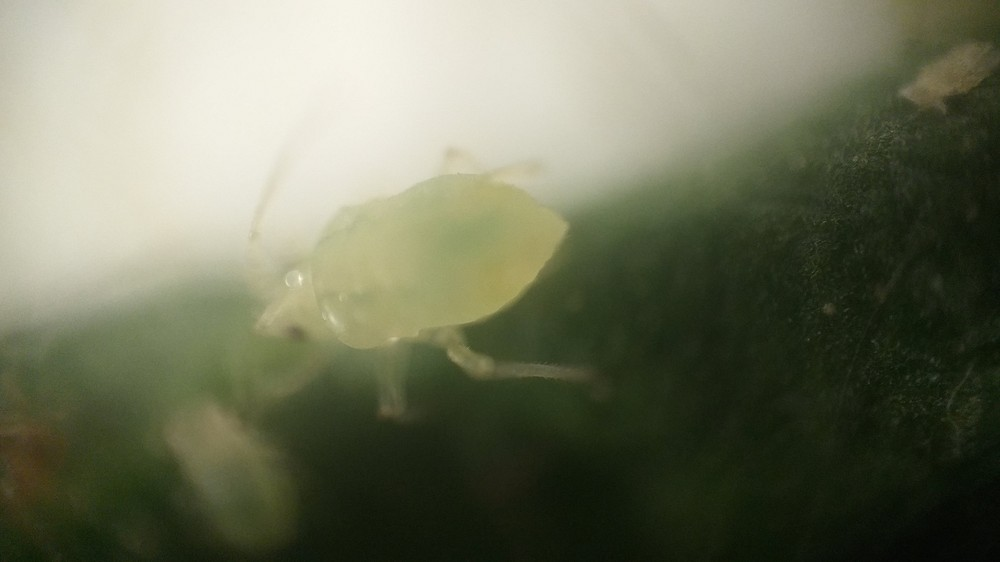Pulgon: (201, 124, 624, 474)
